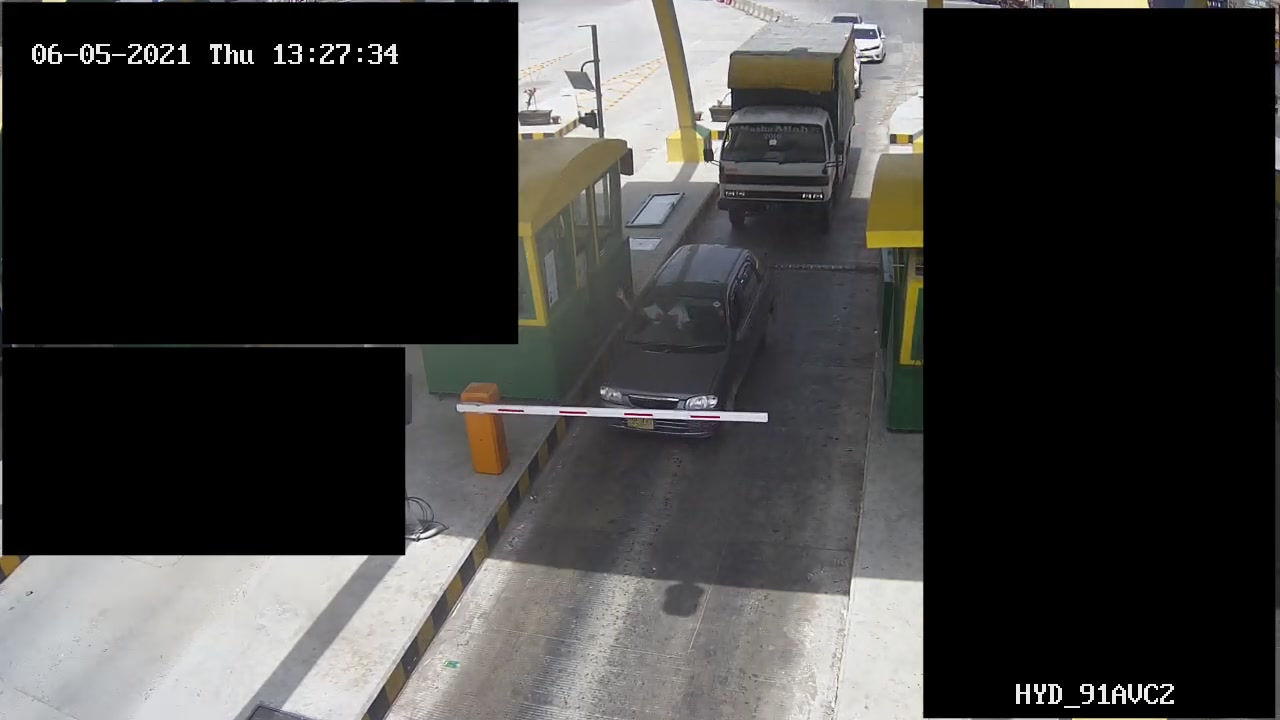F5: (715, 19, 858, 227)
